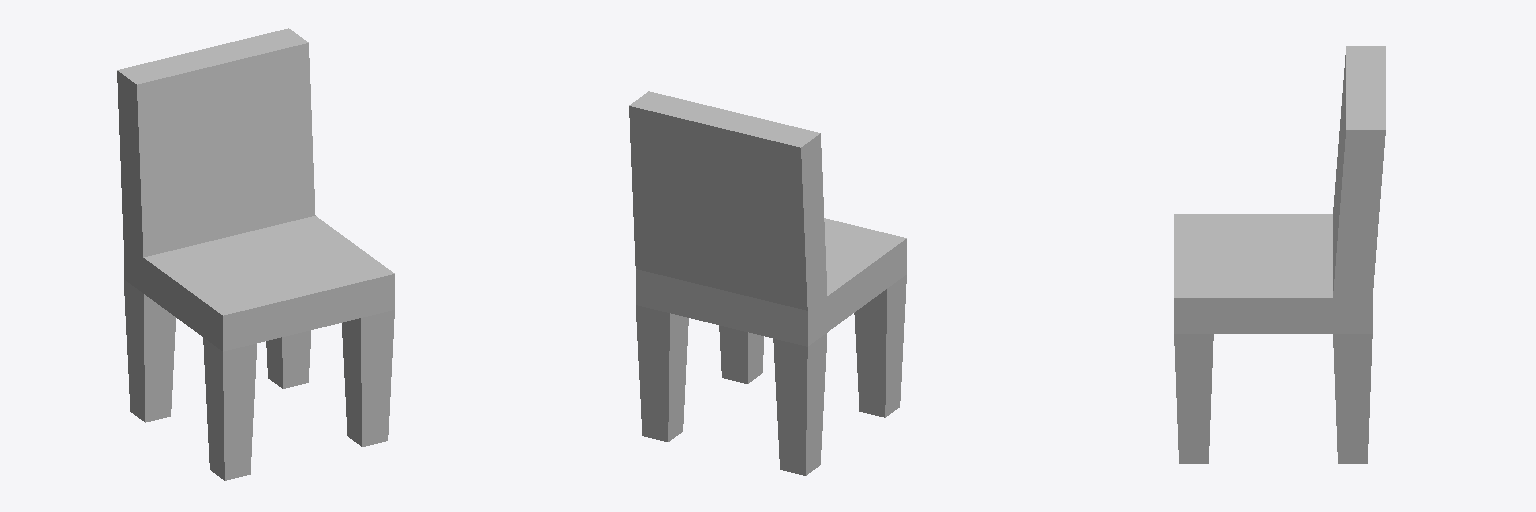
Rendered from Props_Chair_Geo.obj.
3 renders of one model, left to right at view 1: azimuth 30°, elevation 25°; view 2: azimuth 150°, elevation 25°; view 3: azimuth 270°, elevation 25°, orthographic.
Parts seen in each view (by area): view 1: PropZoo:pCube72; view 2: PropZoo:pCube72; view 3: PropZoo:pCube72.
Boxes of the visible parts, box(x1,y1,x2,y2) form: PropZoo:pCube72: box(117, 28, 394, 480); PropZoo:pCube72: box(629, 91, 906, 475); PropZoo:pCube72: box(1174, 46, 1385, 463).
Bounding box in the file's own units: 0.75 × 1.4 × 0.8.